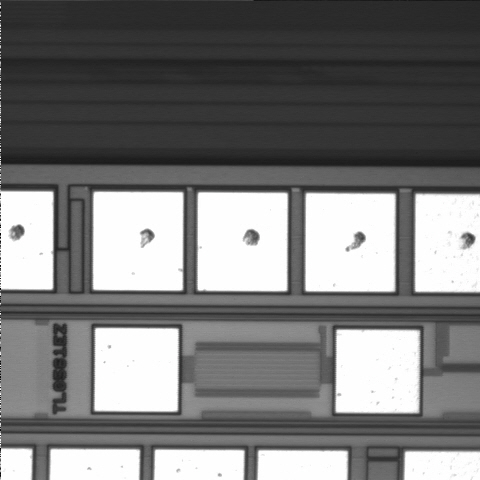pad: (198, 192, 288, 291), (305, 193, 395, 292), (93, 192, 183, 290), (95, 328, 178, 411), (336, 330, 419, 413)
